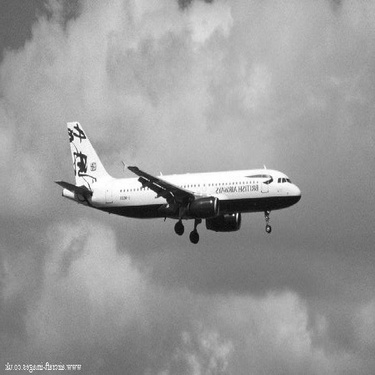airplane: (39, 107, 310, 256)
